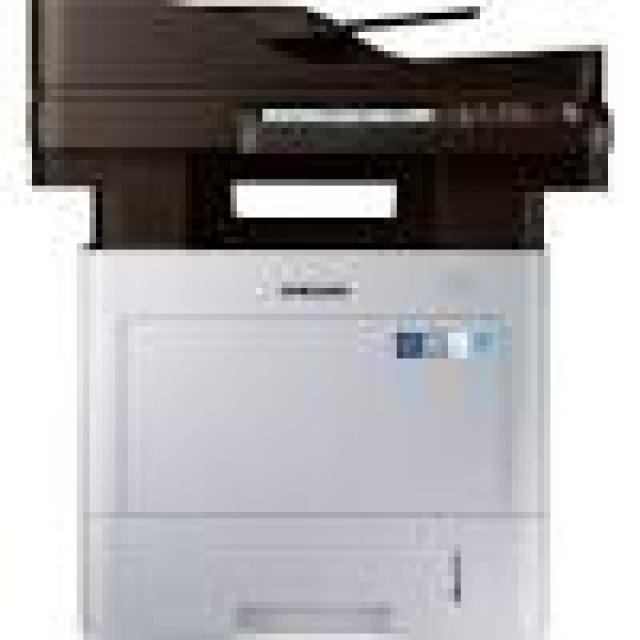printer: (25, 0, 623, 640)
